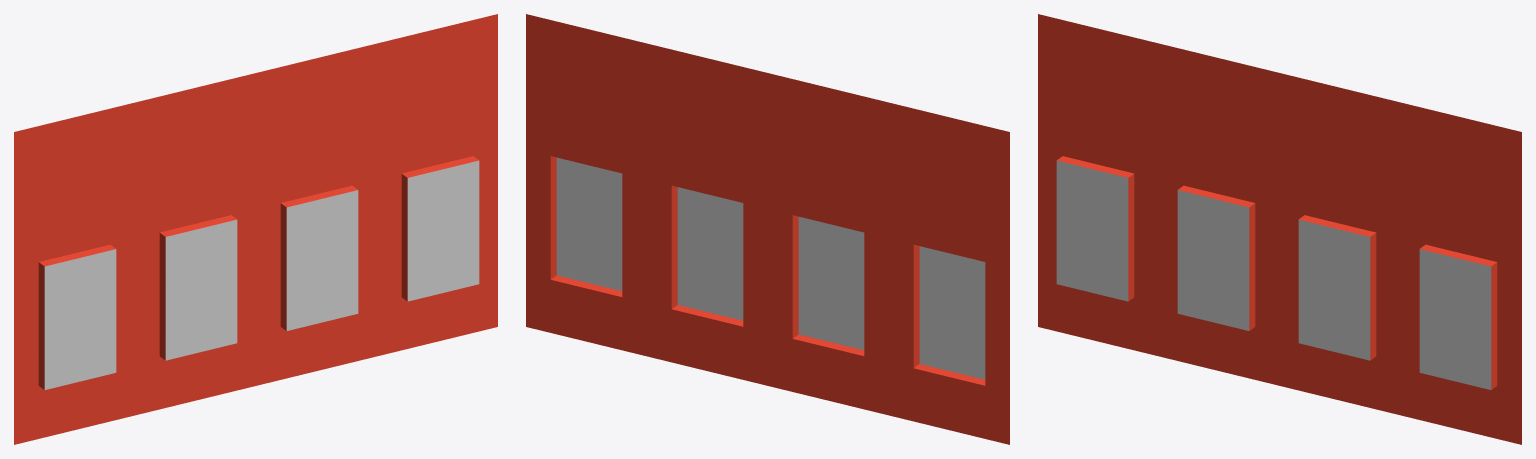
Rendered from wallGreek.fbx.
The picture shows the model from 3 angles, left to right: view 1: azimuth 30°, elevation 25°; view 2: azimuth 150°, elevation 25°; view 3: azimuth 330°, elevation 25°; orthographic projection.
Parts seen in each view (by area): view 1: WallGreek; view 2: WallGreek; view 3: WallGreek.
Boxes of the visible parts, x1,y1,x2,y2 form: WallGreek: [14, 14, 497, 444]; WallGreek: [526, 14, 1009, 444]; WallGreek: [1038, 14, 1521, 444].
Size of the model in its own units: 324 by 200 by 6.98.
